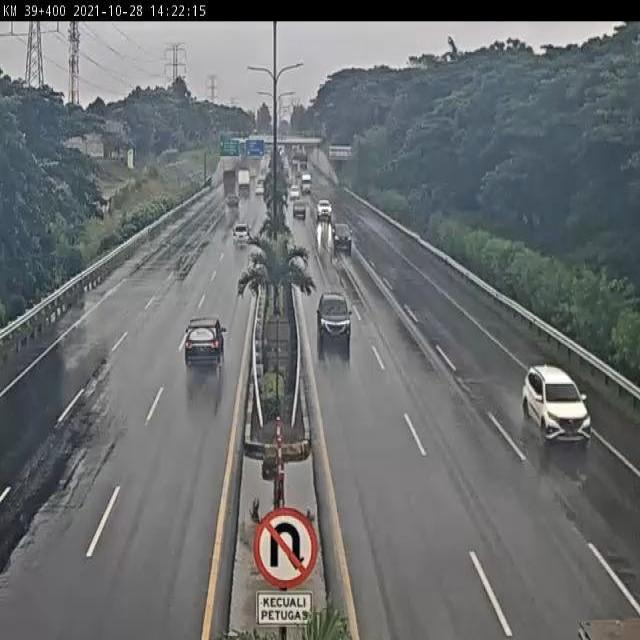car: (523, 365, 595, 451), (182, 317, 226, 375), (317, 292, 354, 345), (330, 223, 354, 256), (230, 222, 254, 250), (316, 198, 332, 218)
